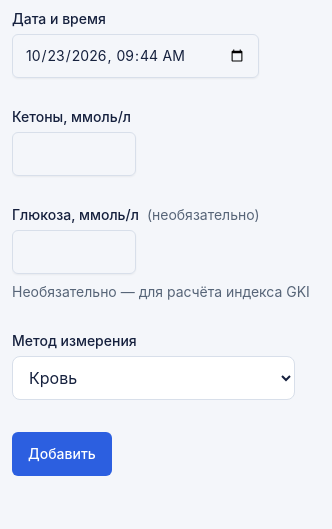
Test: сводка ошибок записи дневника › рассчитывает GKI в реальном времени при вводе кетонов и глюкозы
The width and height of the screenshot is (332, 529).
Type "2.0" into the number field labelled "Кетоны, ммоль/л" at (74, 154), box x1=12 y1=132 x2=136 y2=176
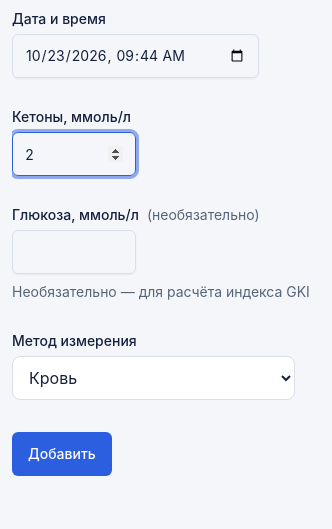
Type "4.0" into the number field labelled "Глюкоза, ммоль/л (необязательно)" at (74, 252), box x1=12 y1=230 x2=136 y2=274
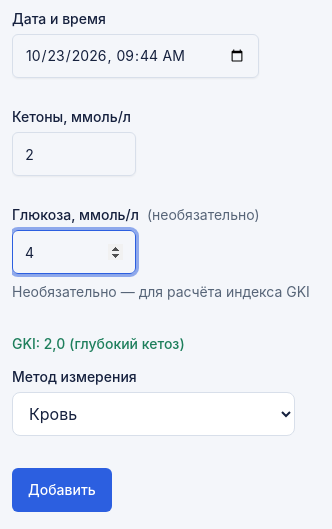
Check: the text "GKI: 2,0 (глубокий кетоз)" is shown, box x1=12 y1=335 x2=185 y2=352
